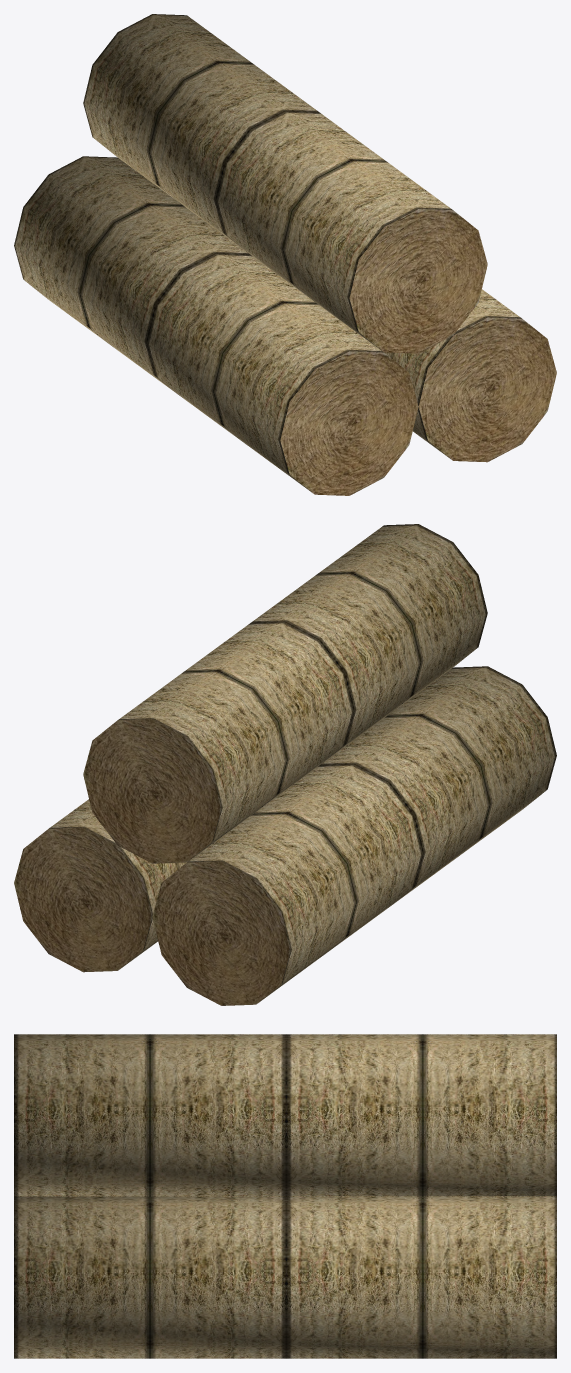
File: hay-bale-straw-3x4-cbj_LOD01.gltf
3 views of the same model, one above another, from view 1: azimuth 30°, elevation 25°; view 2: azimuth 150°, elevation 25°; view 3: azimuth 270°, elevation 25° (orthographic).
Parts seen in each view (by area): view 1: Cube.001; view 2: Cube.001; view 3: Cube.001.
Part boxes in pixels (left/top/right/bottom): Cube.001: left=14, top=14, right=556, bottom=495; Cube.001: left=14, top=524, right=556, bottom=1005; Cube.001: left=14, top=1034, right=556, bottom=1358.
Size of the model in its own units: 3.6 by 3.36 by 6.
